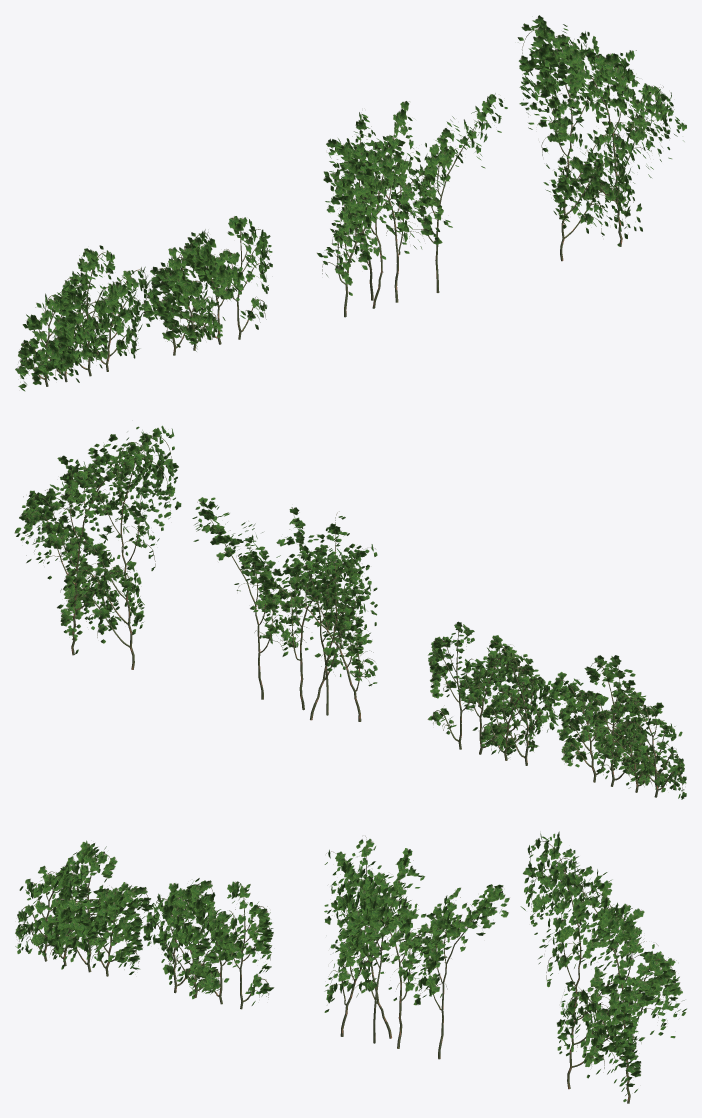
File: ivy.glb
The picture shows the model from 3 angles, top to bottom: view 1: azimuth 30°, elevation 25°; view 2: azimuth 150°, elevation 25°; view 3: azimuth 330°, elevation 25°; orthographic projection.
Visible parts, largest first — view 1: Object_1, Object_0; view 2: Object_1, Object_0; view 3: Object_1, Object_0.
Part boxes in pixels (x1=…): Object_1: x1=15, y1=15, x2=686, y2=391; Object_0: x1=18, y1=29, x2=674, y2=386; Object_1: x1=14, y1=425, x2=686, y2=799; Object_0: x1=23, y1=435, x2=683, y2=797; Object_1: x1=15, y1=831, x2=686, y2=1101; Object_0: x1=17, y1=836, x2=677, y2=1103.
Bounding box in the file's own units: 0.9 × 0.3197 × 0.0855.
2 materials, 2 textured.
